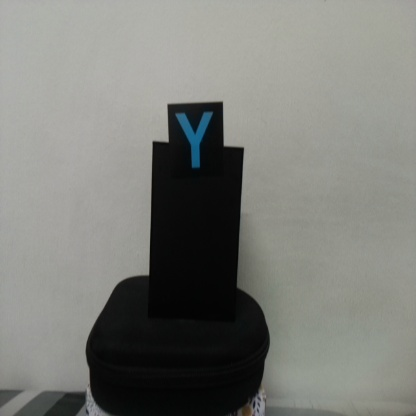id_14: (168, 102, 224, 178)
